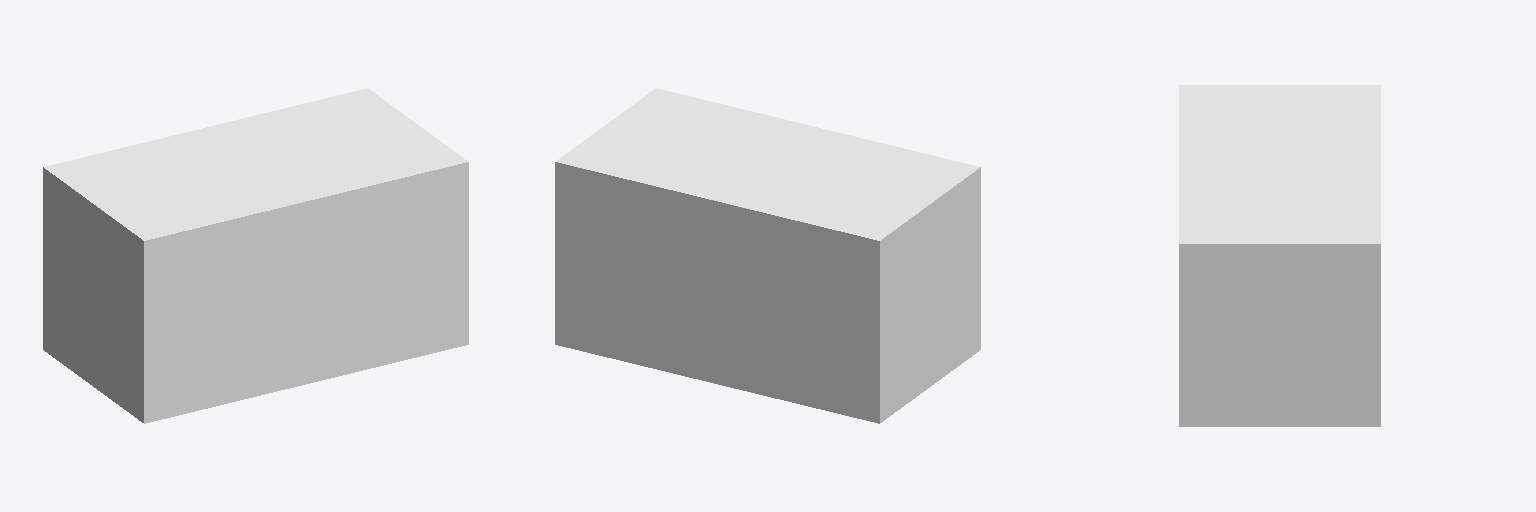
File: wood.obj
3 renders of one model, left to right at view 1: azimuth 30°, elevation 25°; view 2: azimuth 150°, elevation 25°; view 3: azimuth 270°, elevation 25°, orthographic.
Bounding box in the file's own units: 13 × 7 × 7.